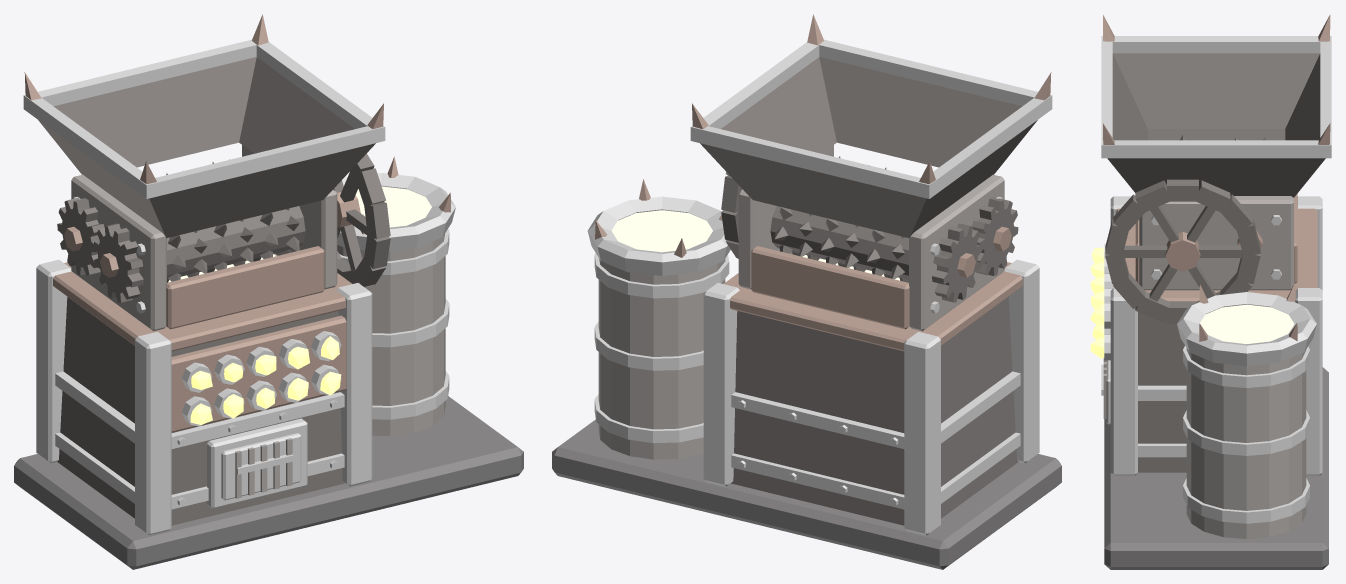
The model's file is DvergerGrinder.fbx.
3 renders of one model, left to right at view 1: azimuth 30°, elevation 25°; view 2: azimuth 150°, elevation 25°; view 3: azimuth 270°, elevation 25°, orthographic. The views are drawn at different scales.
Parts seen in each view (by area): view 1: Body, RollerA, RollerB; view 2: Body, RollerB, RollerA; view 3: Body, RollerA.
Boxes of the visible parts, <box> form: Body: <box>14,14,523,569</box>; RollerA: <box>93,153,390,302</box>; RollerB: <box>57,159,229,275</box>; Body: <box>552,14,1061,569</box>; RollerB: <box>770,206,982,302</box>; RollerA: <box>721,156,1018,275</box>; Body: <box>1101,14,1331,569</box>; RollerA: <box>1105,135,1260,323</box>.
Bounding box in the file's own units: 172 × 170 × 96.78.
